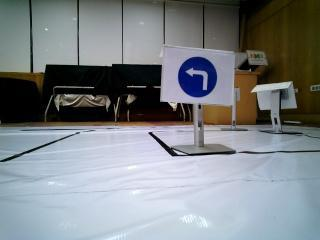left: (173, 52, 235, 107)
